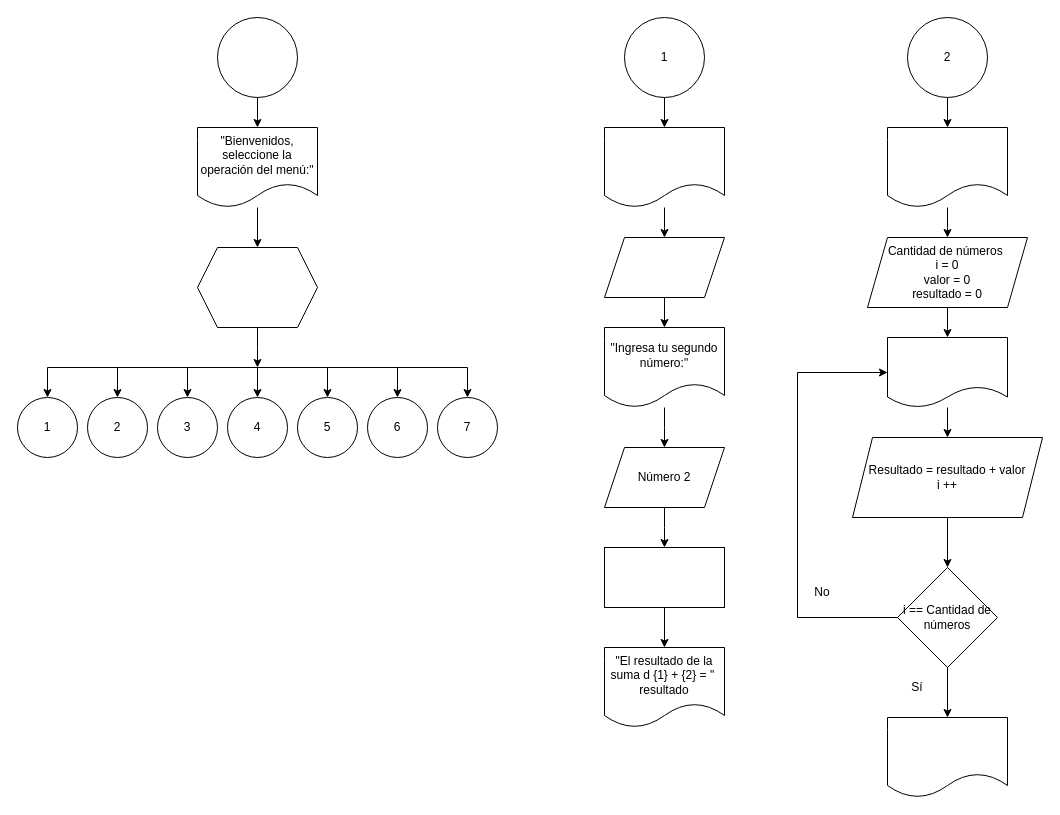
The diagram is 1060 pixels wide and 815 high, and some of its shapes have lost their labels. Each missing label, with the centre of its shape:
"Cuántos números deseas sumar?": (x=947, y=167)
"Ingresa tu número {i}:" = valor: (x=947, y=372)
"Ingresa tu primer número:": (x=664, y=167)
Imprime resultado: (x=947, y=757)
Inicio: (x=257, y=57)
Número 1: (x=664, y=267)
Opción seleccionada: (x=257, y=287)
Resultado = número 1 + número 2: (x=664, y=577)
